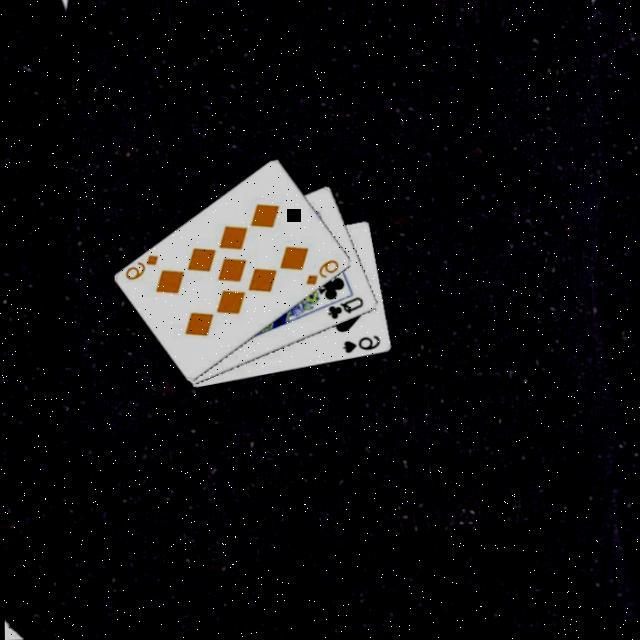6S: (338, 336, 381, 360)
9D: (302, 259, 340, 291), (122, 254, 160, 286)
QC: (324, 297, 365, 325)
